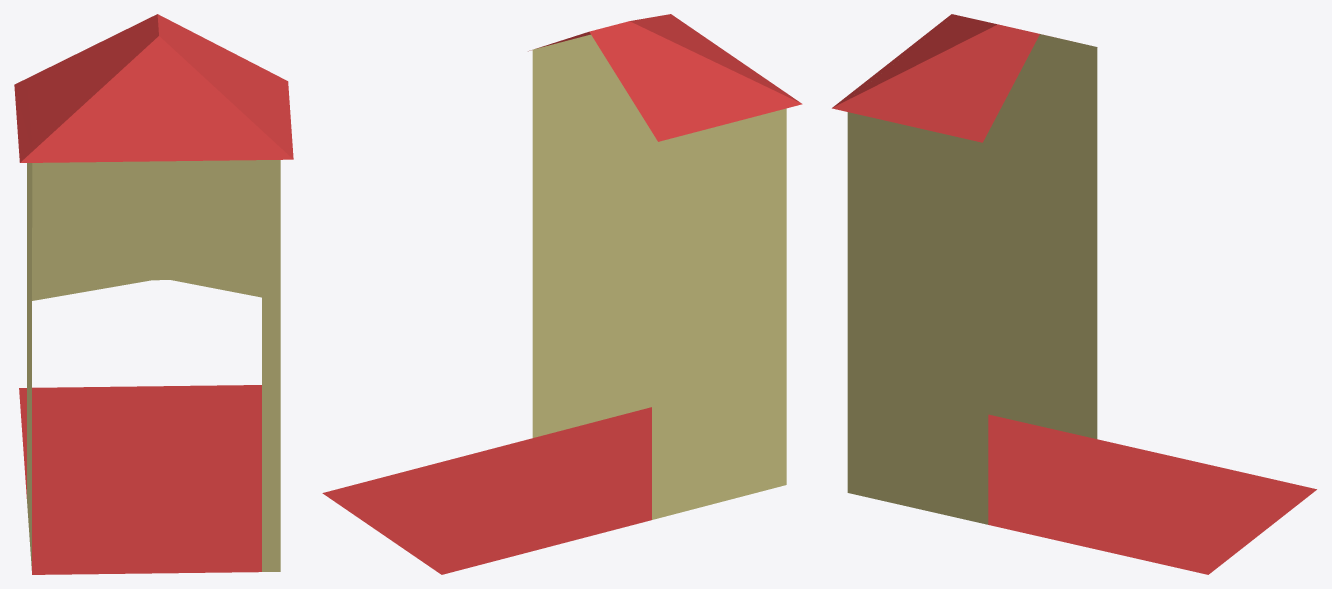
3 renders of one model, left to right at view 1: azimuth 30°, elevation 25°; view 2: azimuth 150°, elevation 25°; view 3: azimuth 270°, elevation 25°, orthographic. The views are drawn at different scales.
Size of the model in its own units: 8.75 by 10.3 by 10.53.
